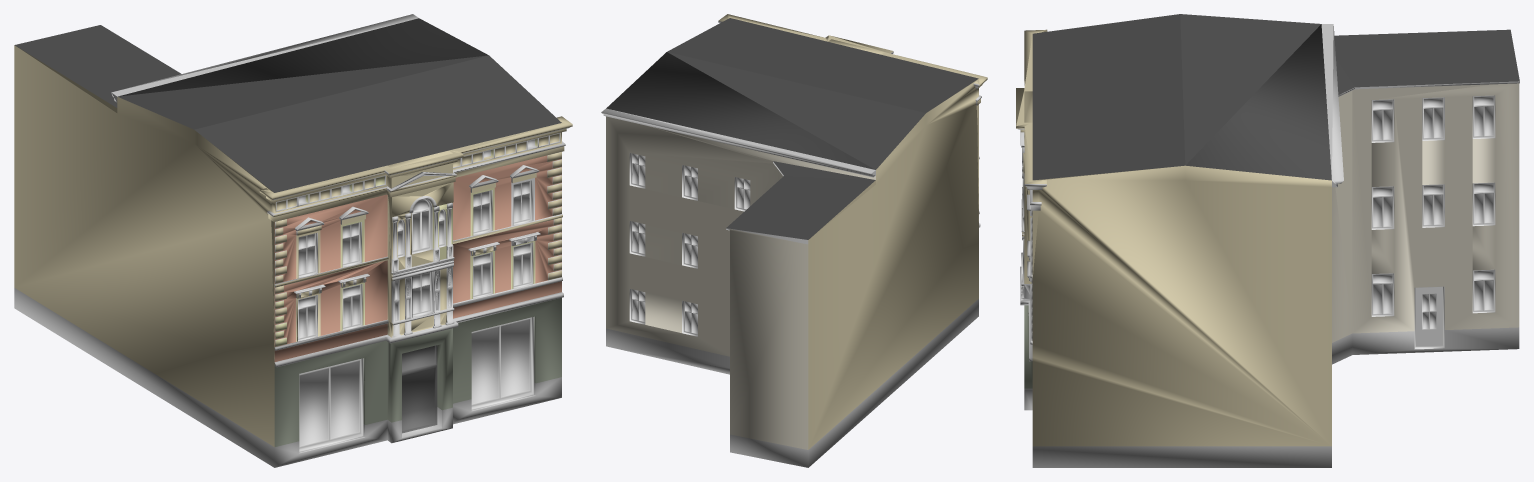
File: Building_3.fbx
The picture shows the model from 3 angles, left to right: view 1: azimuth 30°, elevation 25°; view 2: azimuth 150°, elevation 25°; view 3: azimuth 270°, elevation 25°; orthographic projection. The views are drawn at different scales.
Visible parts, largest first — view 1: Empty, OKNO_C24_2; view 2: Empty, OKNO_R1_9_001; view 3: Empty, OKNO_R3002, DRZWI_R9_1.
Boxes of the visible parts, <box> form: Empty: <box>14,14,572,467</box>; OKNO_C24_2: <box>298,180,534,451</box>; Empty: <box>601,14,987,467</box>; OKNO_R1_9_001: <box>629,153,750,336</box>; Empty: <box>1016,14,1519,467</box>; OKNO_R3002: <box>1371,95,1495,316</box>; DRZWI_R9_1: <box>1414,286,1444,349</box>.
Size of the model in its own units: 0.6908 by 0.5853 by 0.8845.
